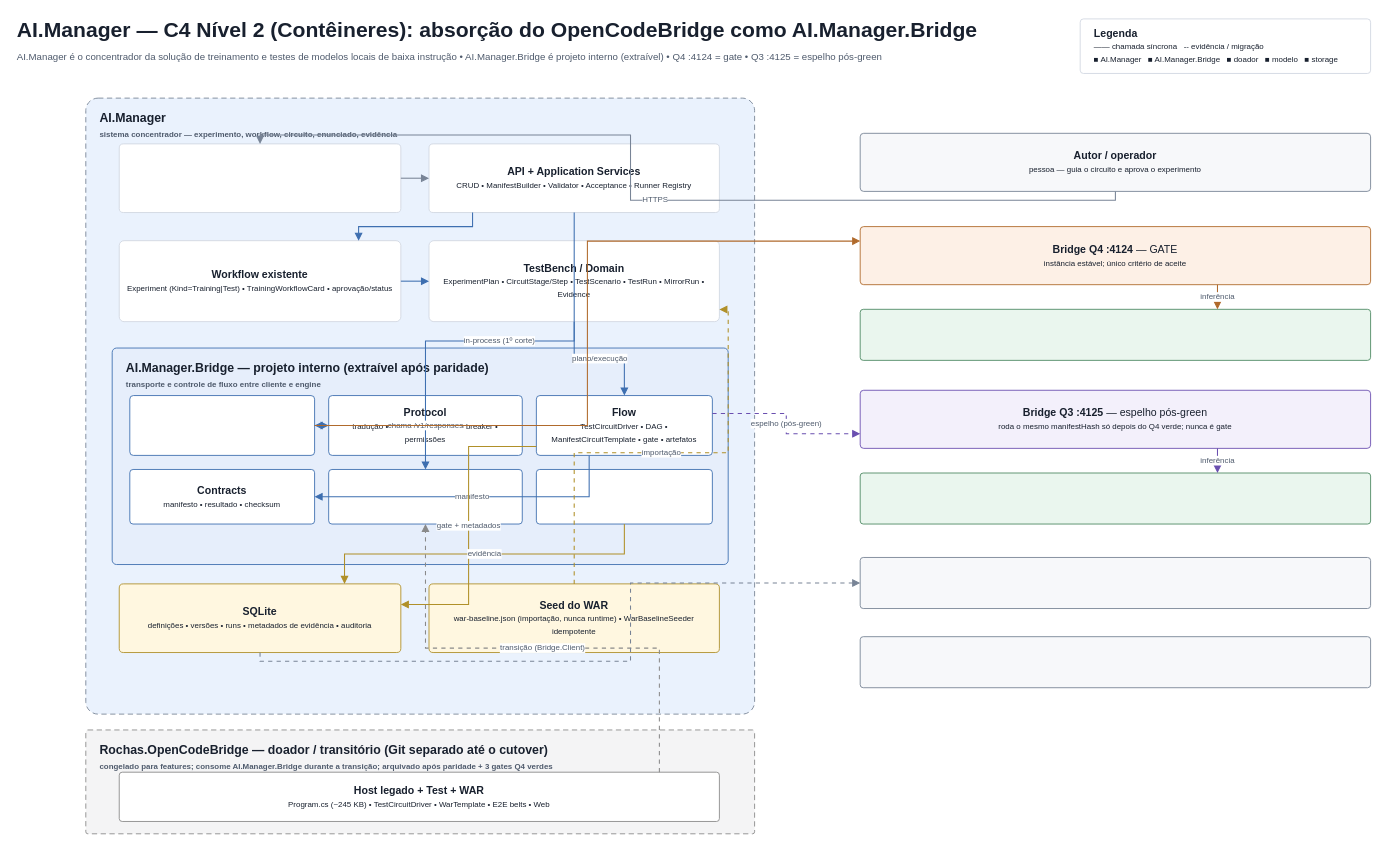
This 1386x849 diagram has some shape labels left out. Each missing label, with the box of its shape:
Client HTTP/SSE tipado (AI.Manager + host legado): (328, 469, 522, 524)
Cloudflare (acesso externo) publica a UI; opcional nesta fase: (859, 636, 1371, 688)
GitHub versiona AI.Manager; OpenCodeBridge até o arquivamento: (859, 557, 1371, 609)
Host Responses • chat • SSE • /api/status • /api/metrics: (129, 395, 315, 455)
llama.cpp Q3 :4110 Gemma4 E4B UD-Q3 • ctx 114688 (2×57344) • saída 16384: (859, 472, 1371, 524)
llama.cpp Q4 :4100 Gemma4 E4B Q4_K_M • ctx 131072 (1 slot) • saída 16384: (859, 308, 1371, 360)
Telemetria / evidência events.jsonl • summary.tsv • hashes: (535, 469, 712, 524)
Web UI catálogo • wizard • mapa do circuito • console • evidência: (118, 143, 401, 213)
